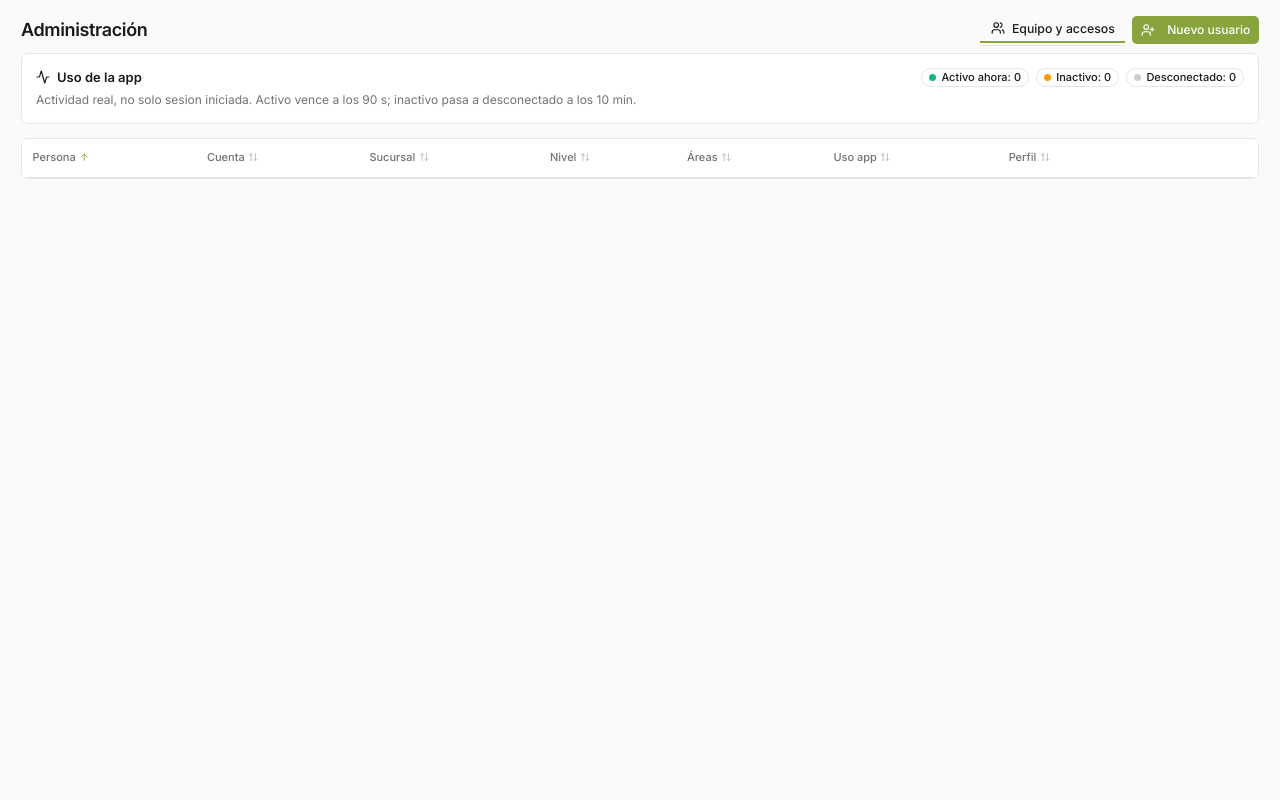
Test case: Administración: alta de operativos sin acceso › envía el alta sin acceso y cierra solo al confirmar
The image size is (1280, 800).
Click the button "Nuevo usuario" at (1196, 30), box [1132, 16, 1259, 44]
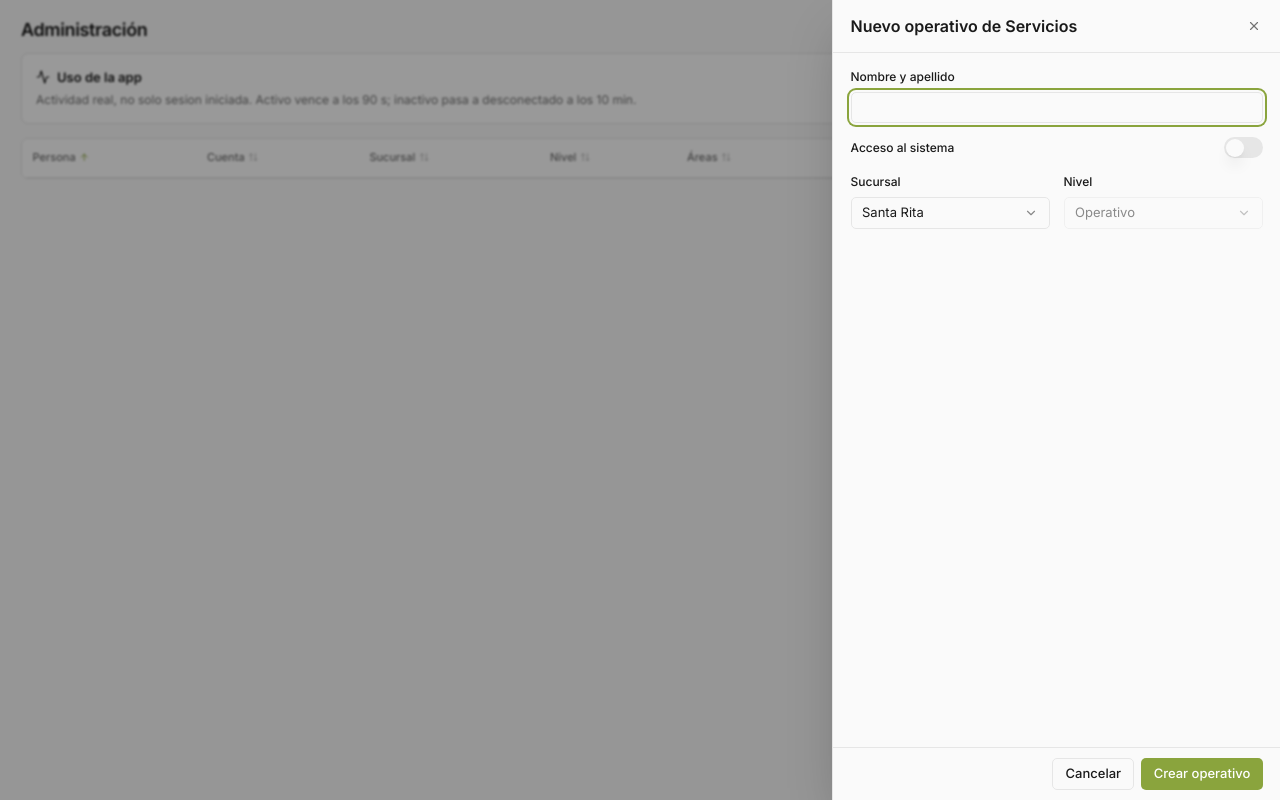
Type "Persona Prueba" into the field labelled "Nombre y apellido" at (1056, 108), box [850, 92, 1262, 123]
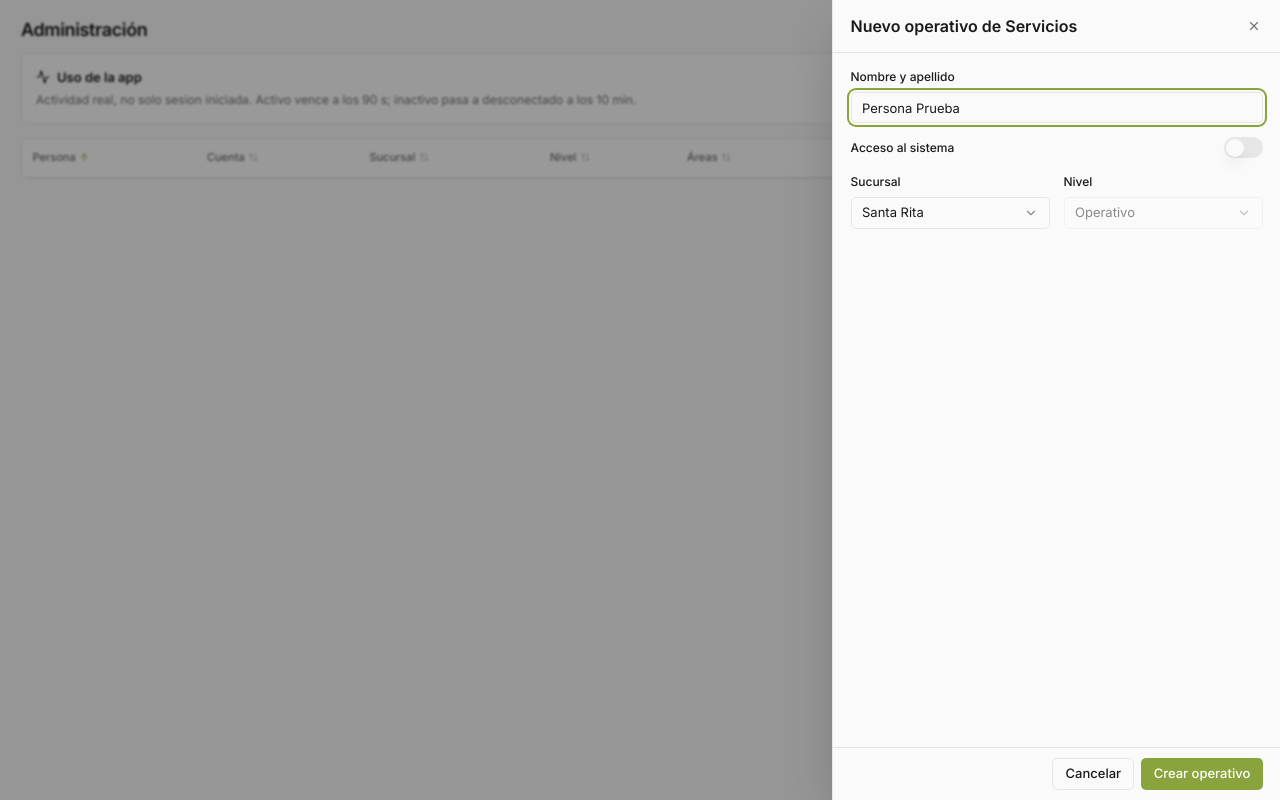
Click the button "Crear operativo" at (1202, 774), box [1141, 758, 1262, 790]
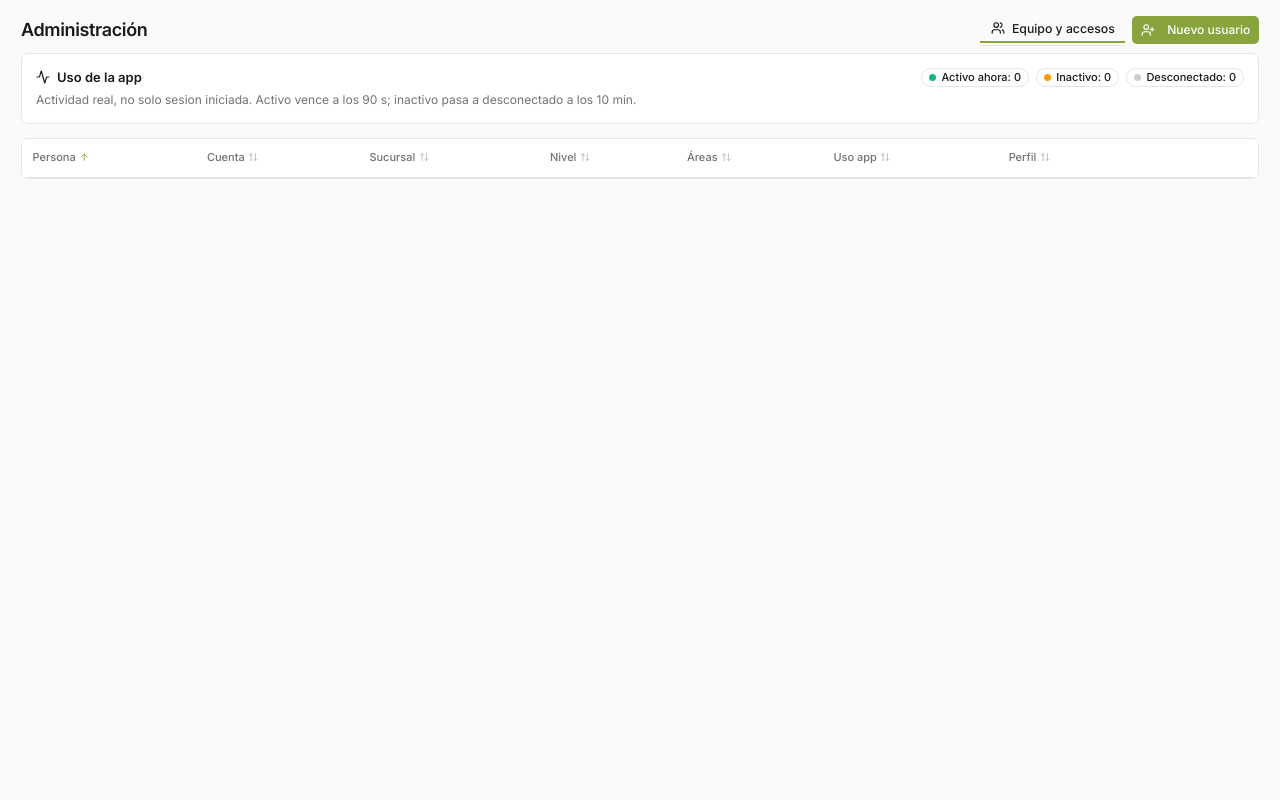
expect the dialog is gone: met
